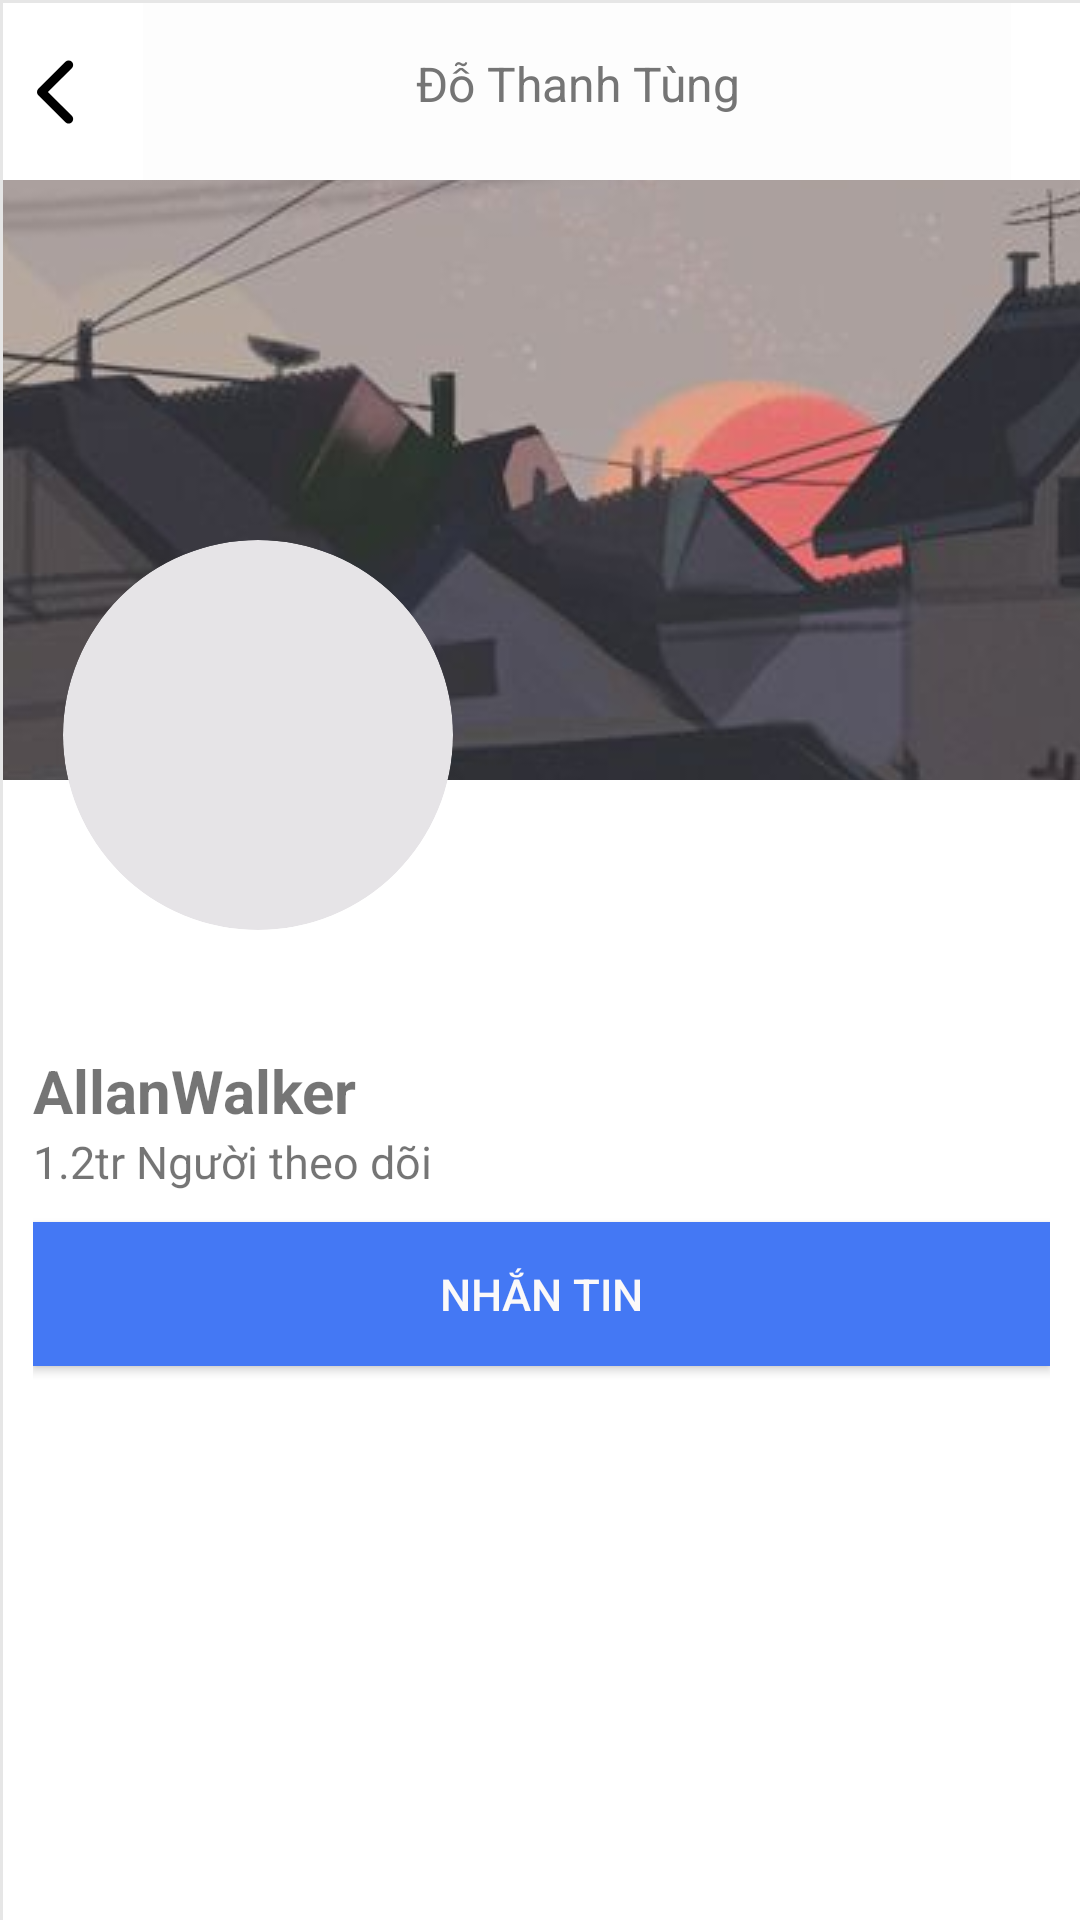

Locate icon controls on the screen. Image size 1080px×1920px, boxes as (x1, y1, x2, y2).
arrow left: (37, 60, 73, 124)
